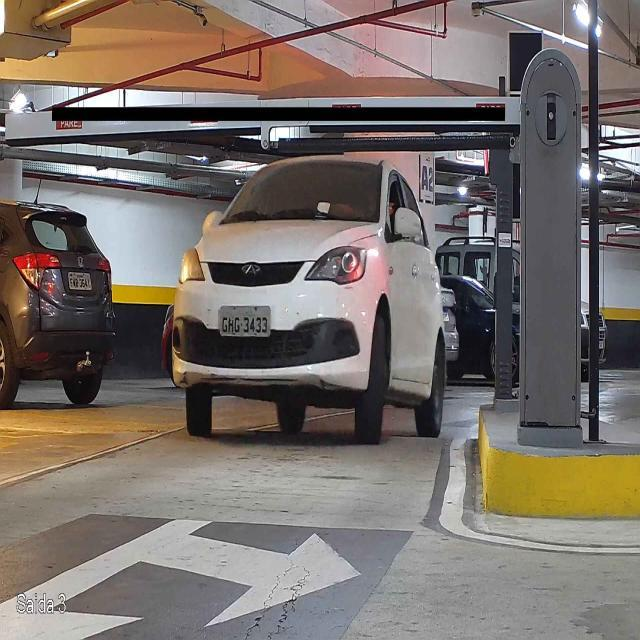old_plate: (216, 304, 274, 339)
